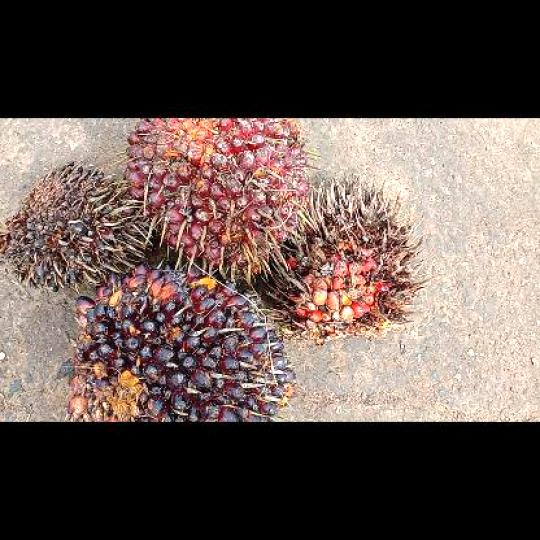kurang masak: (57, 260, 299, 420)
masak: (122, 119, 317, 286)
terlalu masak: (264, 174, 433, 344)
